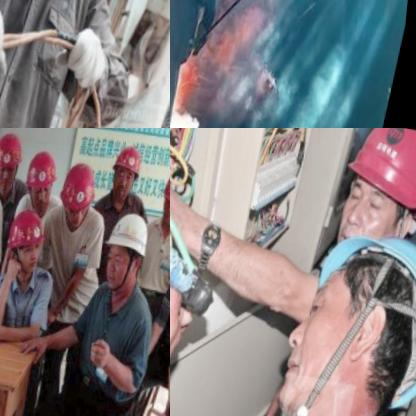helmet: (272, 182, 416, 416), (329, 128, 416, 259), (97, 205, 158, 295), (55, 155, 104, 225), (1, 205, 52, 272), (19, 142, 65, 215), (104, 136, 144, 200), (0, 128, 28, 196), (156, 154, 170, 226)
